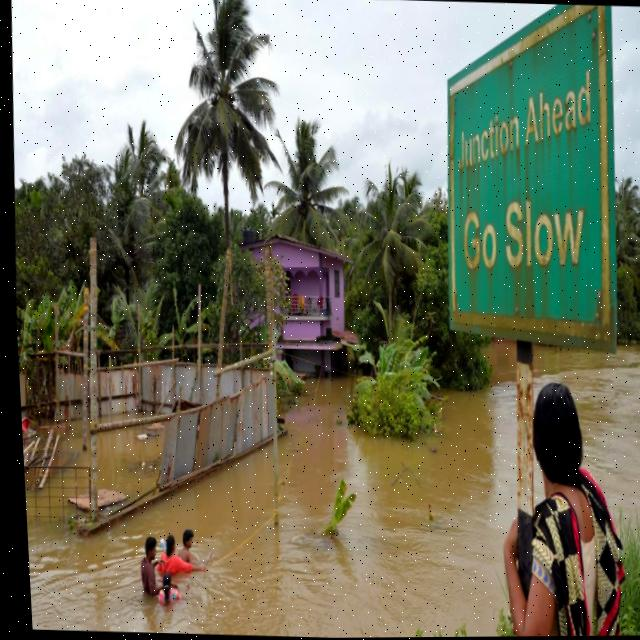civilian: (473, 366, 640, 637), (137, 531, 161, 592), (157, 529, 184, 574), (155, 577, 186, 613), (180, 526, 204, 560)
